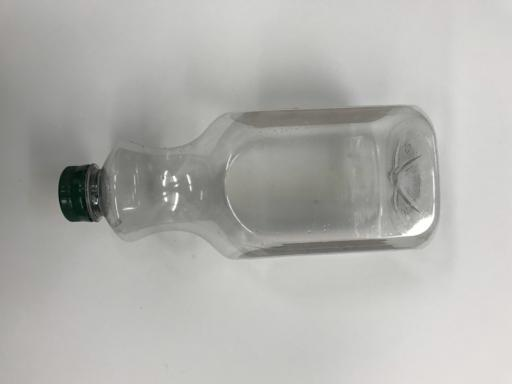PET: (58, 105, 441, 262)
juice: (58, 105, 441, 262)
plastic: (58, 105, 441, 262)
